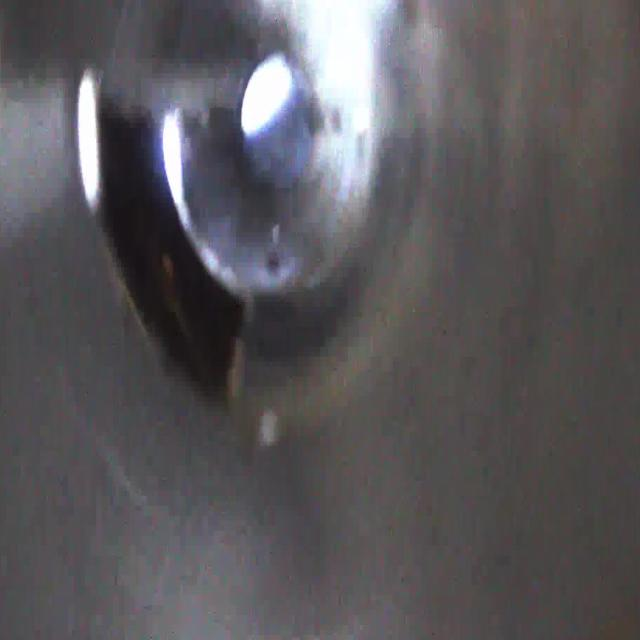hole: (69, 56, 255, 432)
